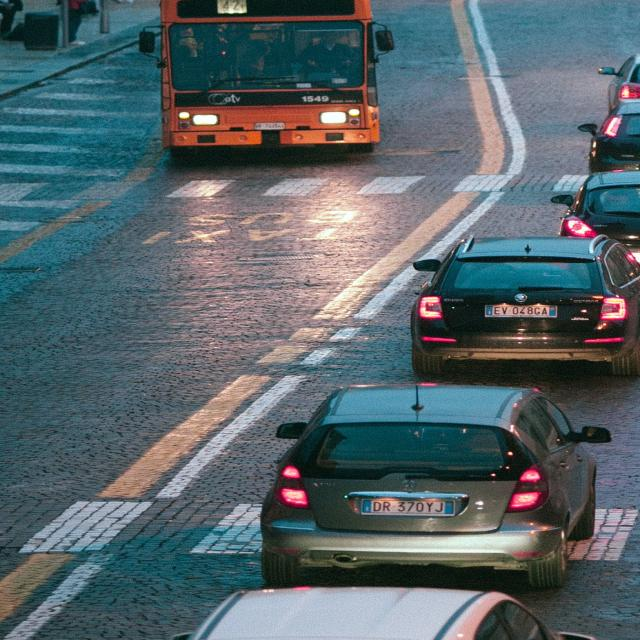bus: (145, 0, 392, 156)
car: (265, 382, 608, 591), (409, 236, 640, 381), (550, 170, 640, 293), (580, 101, 640, 194), (594, 51, 640, 123)
